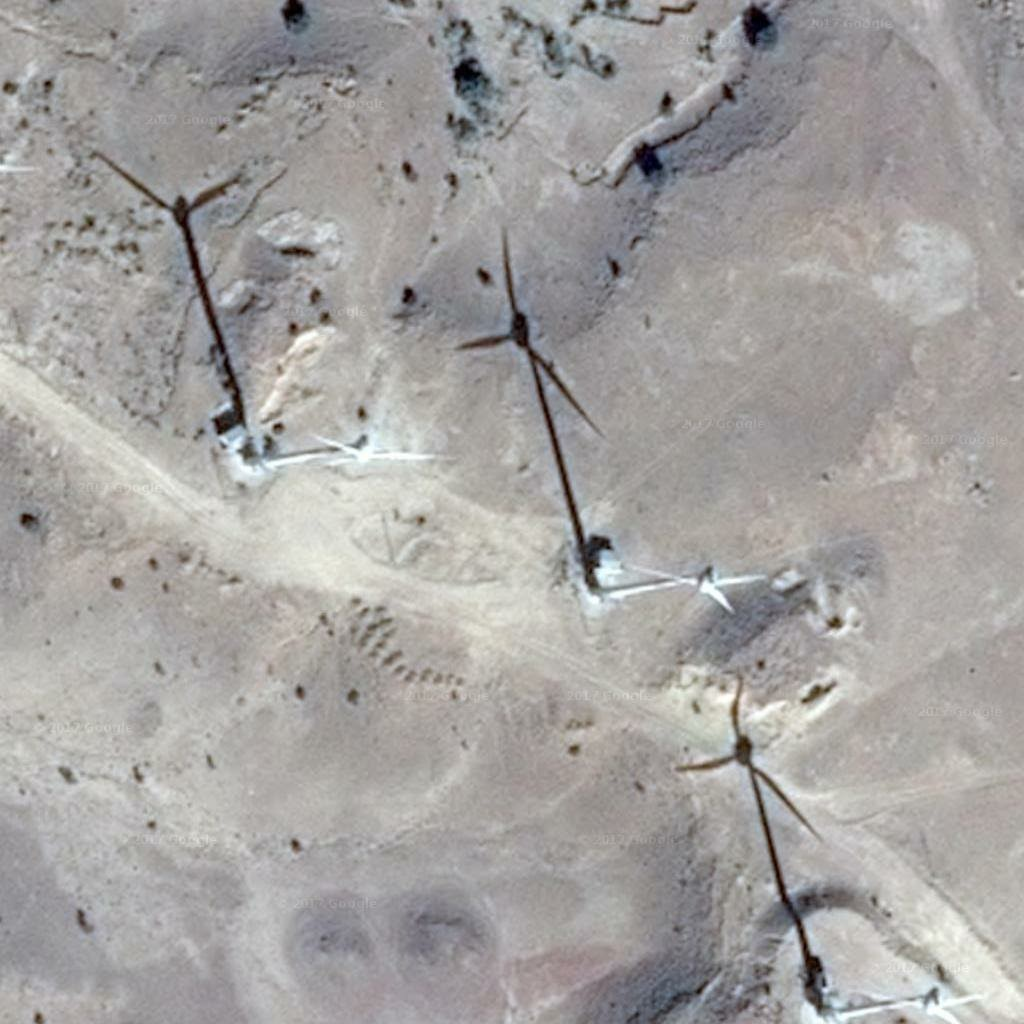Windmill: (457, 240, 606, 570)
